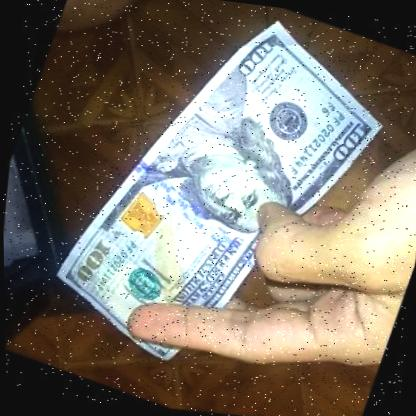one_hundred-front: (20, 0, 416, 416)
